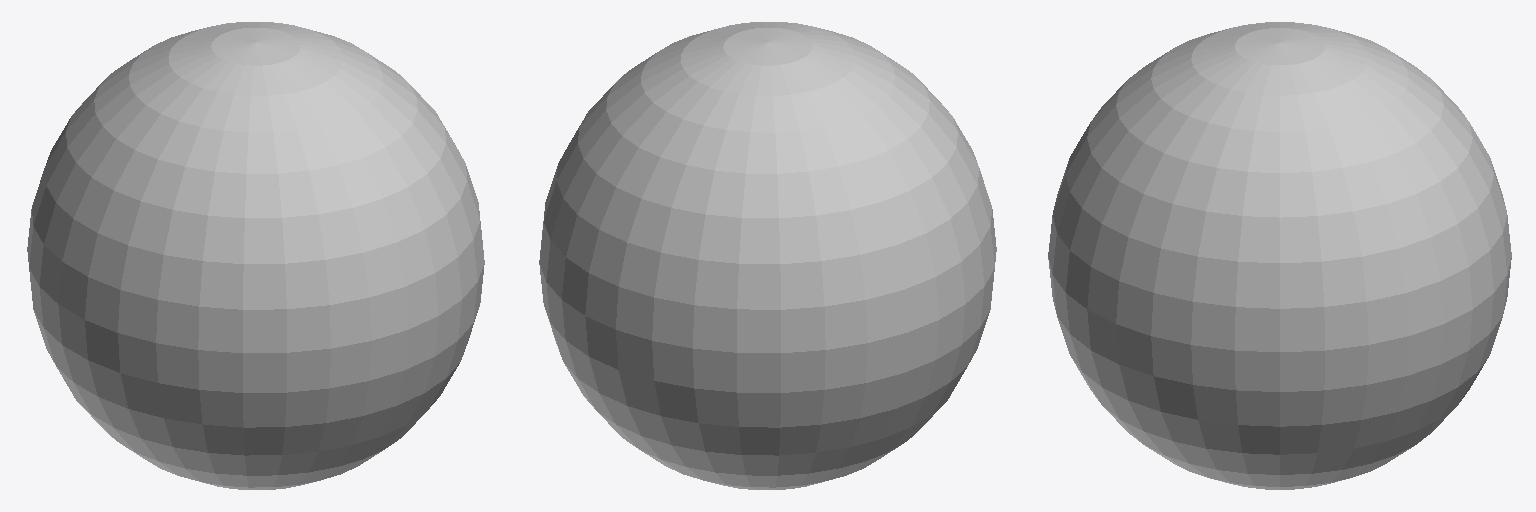
File: enemigo.obj
The picture shows the model from 3 angles: view 1: azimuth 30°, elevation 25°; view 2: azimuth 150°, elevation 25°; view 3: azimuth 270°, elevation 25°; orthographic projection.
Parts seen in each view (by area): view 1: Sphere; view 2: Sphere; view 3: Sphere.
Boxes of the visible parts, x1=… form: Sphere: x1=27, y1=22, x2=484, y2=489; Sphere: x1=539, y1=22, x2=996, y2=489; Sphere: x1=1048, y1=22, x2=1511, y2=489.
Bounding box in the file's own units: 1.01 × 1.04 × 1.03.